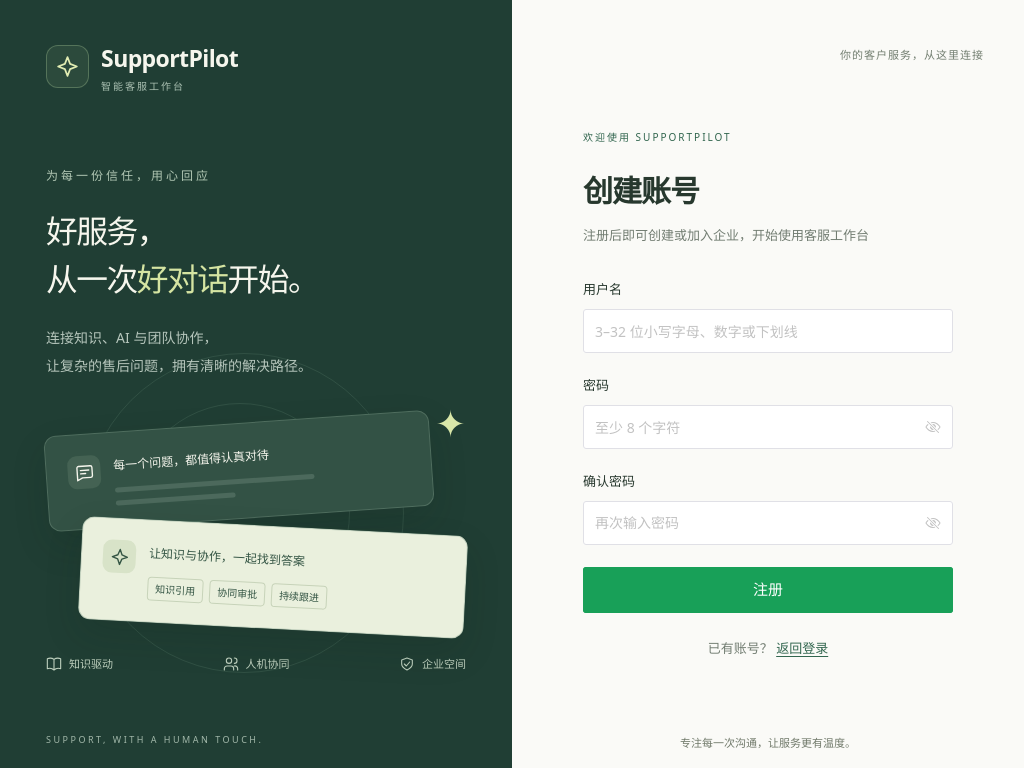
Test: 注册页本地校验 › 用户名不含非法字符：本地规则提示
Type "Bad Name!" into the field with placeholder "3–32 位小写字母、数字或下划线" at x=768, y=331, box top-left (595, 309), bottom-right (941, 353)
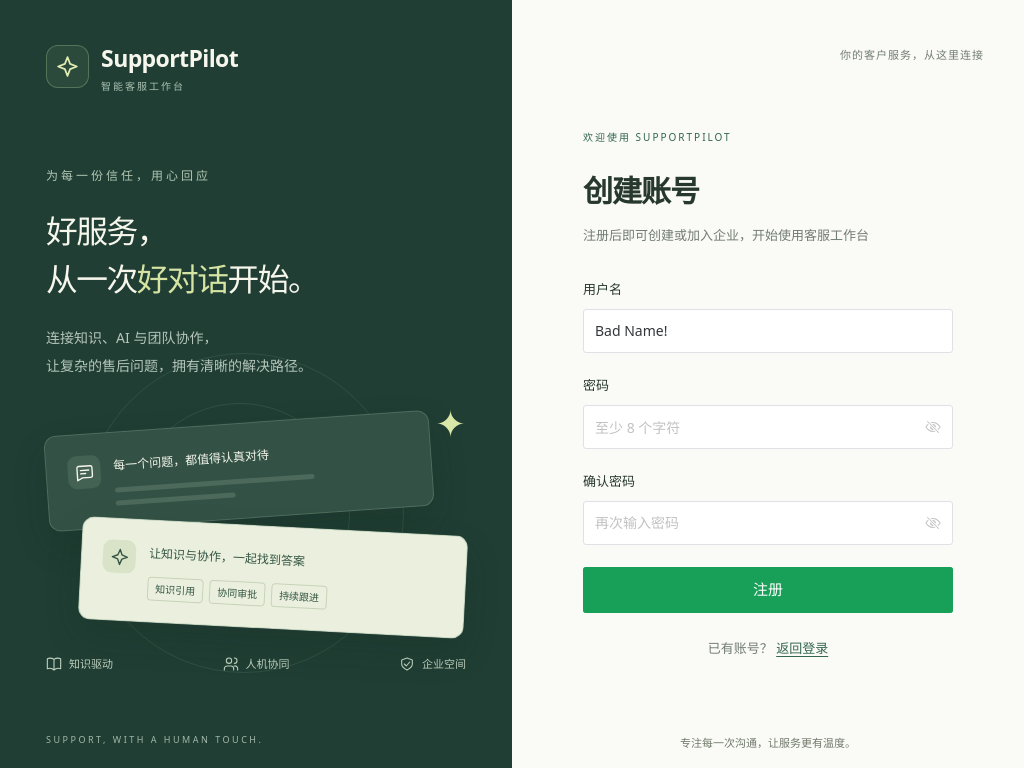
Type "password-123" into the password field with placeholder "至少 8 个字符" at x=758, y=427, box top-left (595, 405), bottom-right (921, 449)
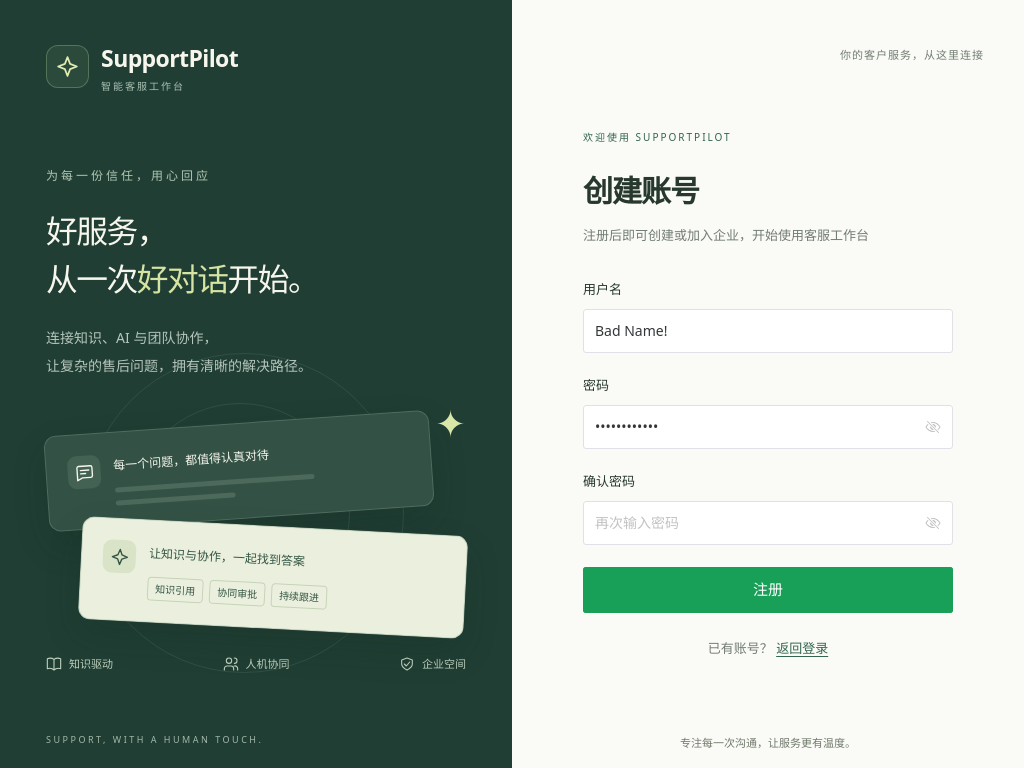
Type "password-123" into the password field with placeholder "再次输入密码" at x=758, y=523, box top-left (595, 501), bottom-right (921, 545)
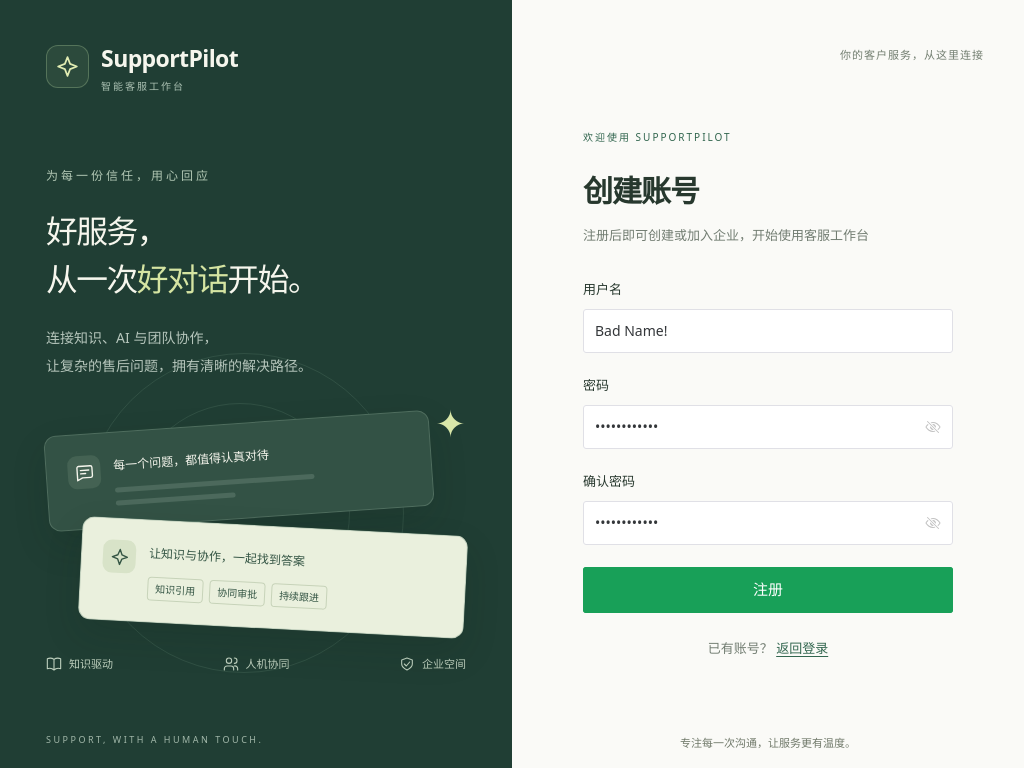
Click the button "注册" at x=768, y=590, box top-left (583, 567), bottom-right (953, 613)
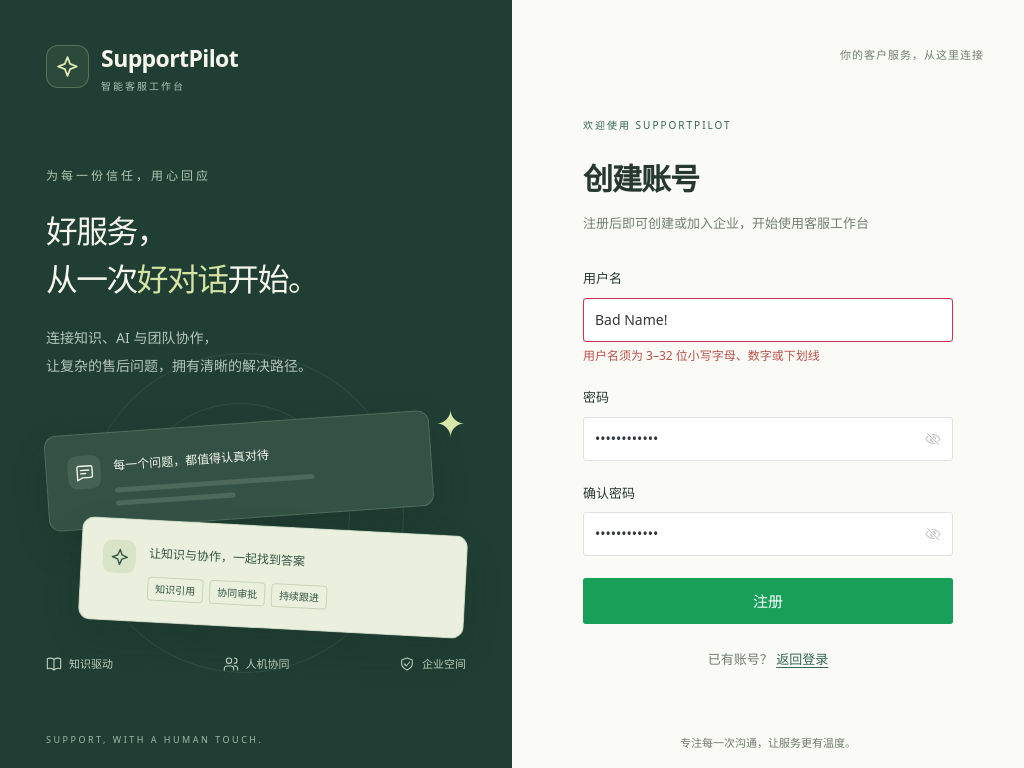
Check: the text "3–32 位小写字母、数字或下划线" is shown, box top-left (583, 347), bottom-right (820, 364)
